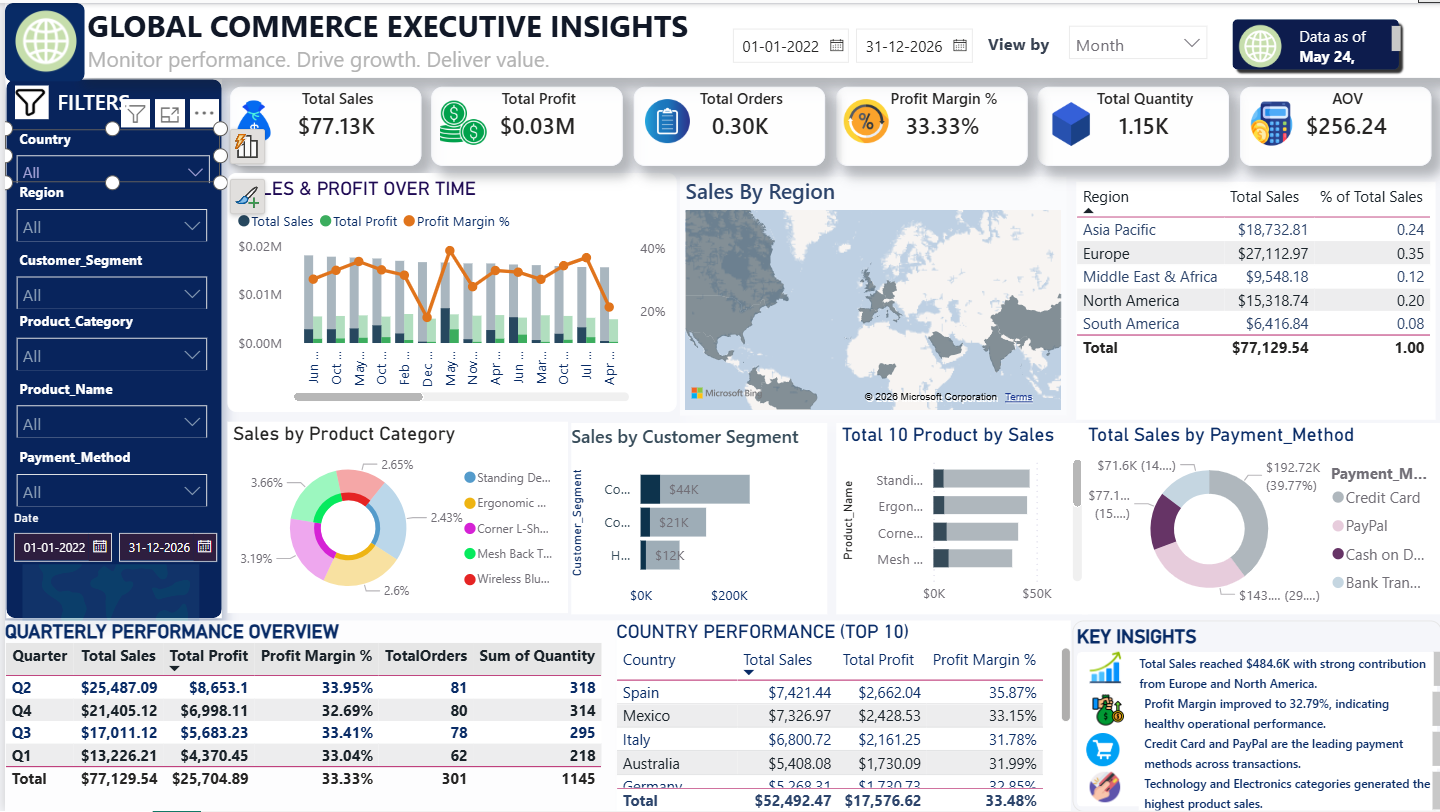

This screenshot's page, from the dashboard's own definition file:
{"tool":"powerbi","page":{"name":"GlobalCommerceExecutiveInsightsDashboard","canvas":[1280,720],"ordinal":2},"visuals":[{"type":"shape","box":[1086.7,7.3,161.5,58.1],"z":0,"group":"g1"},{"type":"shape","title":"QUARTERLY PERFORMANCE OVERVIEW","box":[1.4,68,192,480],"z":0},{"type":"textbox","box":[64.1,1.4,1214,65.6],"z":1000},{"type":"image","box":[1099,2.8,38,70],"z":1000,"group":"g1"},{"type":"textbox","box":[1148,15.6,100,44],"z":2000,"group":"g1"},{"type":"slicer","fields":{"Values":["Dim_Date.Date"]},"box":[0,452,190,50],"z":2000},{"type":"slicer","fields":{"Values":["DimRegion.Country"]},"box":[0,112,192,48],"z":3000},{"type":"textbox","box":[25.7,69.8,106.9,35.6],"z":4000},{"type":"card","title":"Total Sales","fields":{"Values":["Measure.Total Sales"]},"box":[200,75.1,170,70],"z":5000},{"type":"shape","box":[9,74,30,30],"z":6000},{"type":"image","box":[5,72,36,32],"z":7000},{"type":"slicer","fields":{"Values":["DimRegion.Region"]},"box":[0,160,190,52],"z":8000},{"type":"slicer","fields":{"Values":["DimCustomer.Customer_Segment"]},"box":[0,220,190,52],"z":9000},{"type":"slicer","fields":{"Values":["DimProduct.Product_Category"]},"box":[0,275,190,52],"z":10000},{"type":"slicer","fields":{"Values":["DimProduct.Product_Name"]},"box":[0,335,190,52],"z":11000},{"type":"slicer","fields":{"Values":["FactSales.Payment_Method"]},"box":[0,396,190,52],"z":12000},{"type":"shape","box":[0,0,71,70],"z":13000},{"type":"image","box":[8.6,5.7,55.6,57],"z":14000},{"type":"slicer","fields":{"Values":["Dim_Date.Date"]},"box":[632.1,9.9,245.2,51],"z":15000},{"type":"slicer","fields":{"Values":["ViewBy.Column1"]},"box":[934,7.1,150.2,49.6],"z":16000},{"type":"textbox","box":[870.2,21.3,80.8,31.2],"z":17000},{"type":"group","id":"g1","title":"Group 1","box":[1086.7,2.8,161.5,70],"z":18000},{"type":"lineClusteredColumnComboChart","title":"SALES & PROFIT OVER TIME","fields":{"Category":["Dim_Date.MonthYear"],"Y":["Measure.Total Sales","Measure.Total Profit"],"Y2":["Measure.Profit Margin"]},"box":[198.4,151.7,399.7,212.6],"z":19000},{"type":"filledMap","title":"Sales By Region","fields":{"Category":["DimRegion.Country","FactSales.Sales"]},"box":[600.9,154.5,344,212.6],"z":20000},{"type":"tableEx","fields":{"Values":["DimRegion.Region","Measure.Total Sales","Measure.% of Total Sales"]},"box":[953.9,158.7,320,212],"z":21000},{"type":"donutChart","title":"Sales by Product Category","fields":{"Category":["DimProduct.Product_Category Hierarchy.Product_Name"],"Y":["Measure.Total Sales"]},"box":[198.4,372.8,303.3,170.1],"z":22000},{"type":"clusteredBarChart","title":"Sales by Customer Segment","fields":{"Y":["Measure.Total Sales"],"Category":["DimCustomer.Customer_Segment"]},"box":[504.6,374.2,228.2,170.1],"z":23000},{"type":"clusteredBarChart","title":"Total 10 Product by Sales","fields":{"Y":["Measure.Total Sales"],"Category":["DimProduct.Product_Name"]},"box":[739.8,374.2,223.9,170.1],"z":24000},{"type":"donutChart","fields":{"Category":["FactSales.Payment_Method"],"Y":["Measure.Total Sales"]},"box":[959.5,374.2,320.3,170.1],"z":25000},{"type":"tableEx","title":"QUARTERLY PERFORMANCE OVERVIEW","fields":{"Values":["Dim_Date.Quarter","Measure.Total Sales","Measure.Total Profit","Measure.Profit Margin %","Measure.TotalOrders","Sum(FactSales.Quantity)"]},"box":[0,550.2,544,169.6],"z":26000},{"type":"tableEx","title":"COUNTRY PERFORMANCE (TOP 10)","fields":{"Values":["DimRegion.Country","Measure.Total Sales","Measure.Total Profit","Measure.Profit Margin %"]},"box":[544,550,404.8,169.6],"z":27000},{"type":"shape","title":"KEY INSIGHTS","box":[951,549.9,328.8,170.1],"z":28000},{"type":"image","box":[1,500,186,50],"z":29000},{"type":"image","box":[201,82.7,39.9,45.6],"z":30000},{"type":"card","title":"Total Quantity","fields":{"Values":["Measure.Total Quantity Sold"]},"box":[920,75,170,70],"z":31000},{"type":"card","title":"Profit Margin %","fields":{"Values":["Measure.Profit Margin %"]},"box":[740,75,170,70],"z":32000},{"type":"image","box":[929.4,84.1,40,45.6],"z":33000},{"type":"image","box":[746.9,82.7,39.9,45.6],"z":34000},{"type":"card","title":"Total Profit","fields":{"Values":["Measure.Total Profit"]},"box":[380,75,170,70],"z":35000},{"type":"card","title":"Total Orders","fields":{"Values":["Measure.TotalOrders"]},"box":[560,75,170,70],"z":36000},{"type":"image","box":[570.2,82.7,39.9,45.6],"z":37000},{"type":"image","box":[387.7,84.1,41.3,44.2],"z":38000},{"type":"card","title":"AOV","fields":{"Values":["Measure.Average Order Value"]},"box":[1100,75,170,70],"z":39000},{"type":"image","box":[1109,84.1,38.5,45.6],"z":40000},{"type":"image","box":[965.2,578.3,29.8,28.3],"z":41000},{"type":"image","box":[968,615.1,28.3,28.3],"z":42000},{"type":"image","box":[962.4,650.6,29.8,29.8],"z":43000},{"type":"image","box":[965.2,684.6,28.3,26.9],"z":44000},{"type":"textbox","box":[1004.9,578.3,275,32.6],"z":45000},{"type":"textbox","box":[1009.1,613.7,269.3,32.6],"z":46000},{"type":"textbox","box":[1009.1,649.1,269.3,32.6],"z":47000},{"type":"textbox","box":[1009.1,684.6,269.3,34],"z":48000}]}

Visuals, with their boxes on the page's 1280x720 design canvas (x1, y1, x2, y2). These are canvas units, not pixel positions in the 1440x812 screenshot, which may show the page scaled, cropped or inside an application window:
shape: <region>1087, 7, 1248, 65</region>
"QUARTERLY PERFORMANCE OVERVIEW" shape: <region>1, 68, 193, 548</region>
textbox: <region>64, 1, 1278, 67</region>
image: <region>1099, 3, 1137, 73</region>
textbox: <region>1148, 16, 1248, 60</region>
slicer - Dim_Date.Date: <region>0, 452, 190, 502</region>
slicer - DimRegion.Country: <region>0, 112, 192, 160</region>
textbox: <region>26, 70, 133, 105</region>
"Total Sales" card: <region>200, 75, 370, 145</region>
shape: <region>9, 74, 39, 104</region>
image: <region>5, 72, 41, 104</region>
slicer - DimRegion.Region: <region>0, 160, 190, 212</region>
slicer - DimCustomer.Customer_Segment: <region>0, 220, 190, 272</region>
slicer - DimProduct.Product_Category: <region>0, 275, 190, 327</region>
slicer - DimProduct.Product_Name: <region>0, 335, 190, 387</region>
slicer - FactSales.Payment_Method: <region>0, 396, 190, 448</region>
shape: <region>0, 0, 71, 70</region>
image: <region>9, 6, 64, 63</region>
slicer - Dim_Date.Date: <region>632, 10, 877, 61</region>
slicer - ViewBy.Column1: <region>934, 7, 1084, 57</region>
textbox: <region>870, 21, 951, 52</region>
"Group 1" group: <region>1087, 3, 1248, 73</region>
"SALES & PROFIT OVER TIME" lineClusteredColumnComboChart: <region>198, 152, 598, 364</region>
"Sales By Region" filledMap: <region>601, 154, 945, 367</region>
tableEx - DimRegion.Region x Measure.Total Sales: <region>954, 159, 1274, 371</region>
"Sales by Product Category" donutChart: <region>198, 373, 502, 543</region>
"Sales by Customer Segment" clusteredBarChart: <region>505, 374, 733, 544</region>
"Total 10 Product by Sales" clusteredBarChart: <region>740, 374, 964, 544</region>
donutChart - FactSales.Payment_Method x Measure.Total Sales: <region>960, 374, 1280, 544</region>
"QUARTERLY PERFORMANCE OVERVIEW" tableEx: <region>0, 550, 544, 720</region>
"COUNTRY PERFORMANCE (TOP 10)" tableEx: <region>544, 550, 949, 720</region>
"KEY INSIGHTS" shape: <region>951, 550, 1280, 720</region>
image: <region>1, 500, 187, 550</region>
image: <region>201, 83, 241, 128</region>
"Total Quantity" card: <region>920, 75, 1090, 145</region>
"Profit Margin %" card: <region>740, 75, 910, 145</region>
image: <region>929, 84, 969, 130</region>
image: <region>747, 83, 787, 128</region>
"Total Profit" card: <region>380, 75, 550, 145</region>
"Total Orders" card: <region>560, 75, 730, 145</region>
image: <region>570, 83, 610, 128</region>
image: <region>388, 84, 429, 128</region>
"AOV" card: <region>1100, 75, 1270, 145</region>
image: <region>1109, 84, 1148, 130</region>
image: <region>965, 578, 995, 607</region>
image: <region>968, 615, 996, 643</region>
image: <region>962, 651, 992, 680</region>
image: <region>965, 685, 994, 712</region>
textbox: <region>1005, 578, 1280, 611</region>
textbox: <region>1009, 614, 1278, 646</region>
textbox: <region>1009, 649, 1278, 682</region>
textbox: <region>1009, 685, 1278, 719</region>
